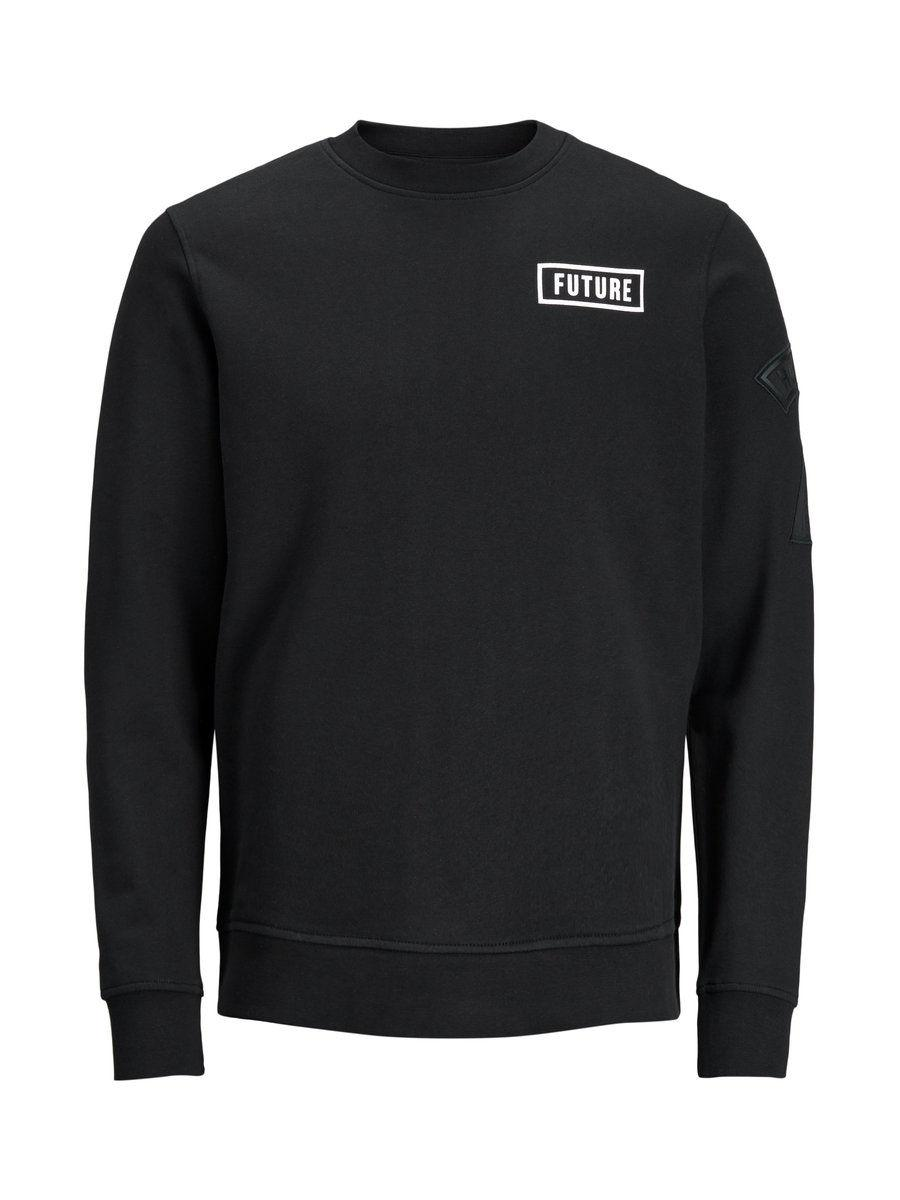teeshirt: (60, 111, 822, 1133)
